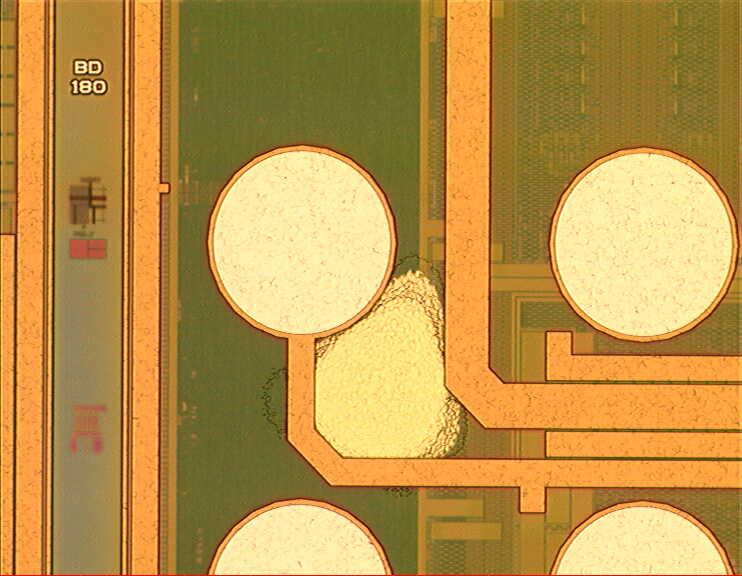BLOCK ETCH: (259, 253, 472, 503)
